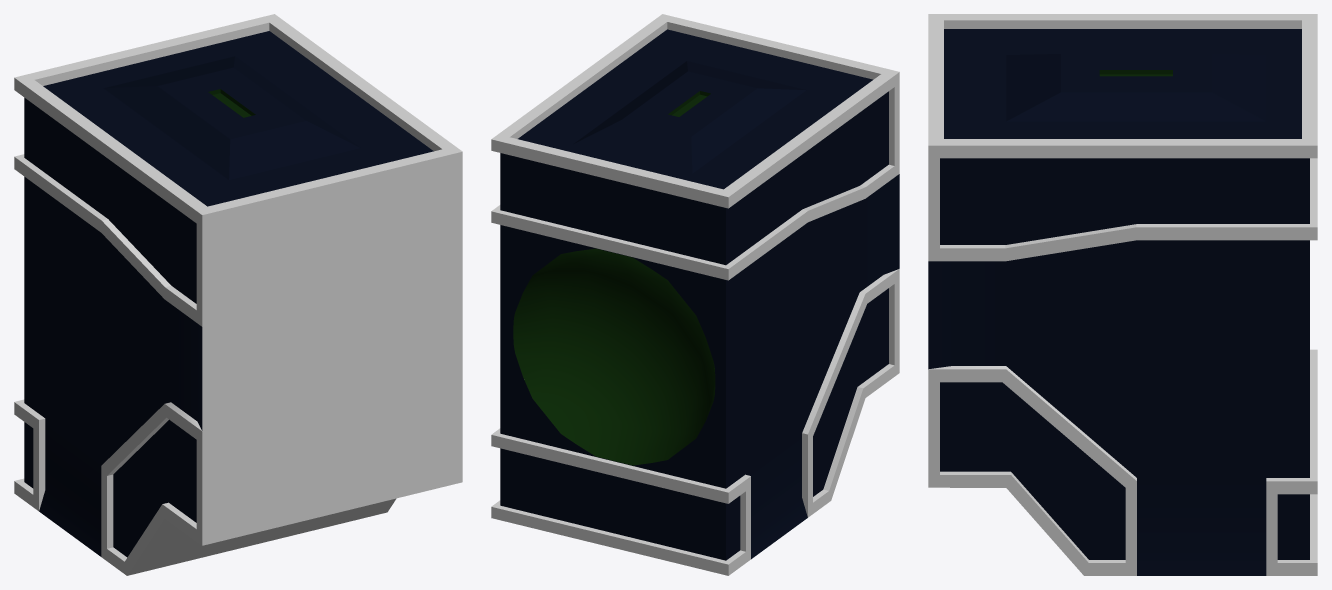
The model's file is OBJ_Arc_triomphe5.fbx.
3 views of the same model, side by side, from view 1: azimuth 30°, elevation 25°; view 2: azimuth 150°, elevation 25°; view 3: azimuth 270°, elevation 25° (orthographic). The views are drawn at different scales.
Visible parts, largest first — view 1: Top_arche1; view 2: Top_arche1; view 3: Top_arche1.
Boxes of the visible parts, x1,y1,x2,y2 form: Top_arche1: (14,14,462,575); Top_arche1: (491,14,899,575); Top_arche1: (928,14,1317,575).
Size of the model in its own units: 2000 by 3097 by 2500.
